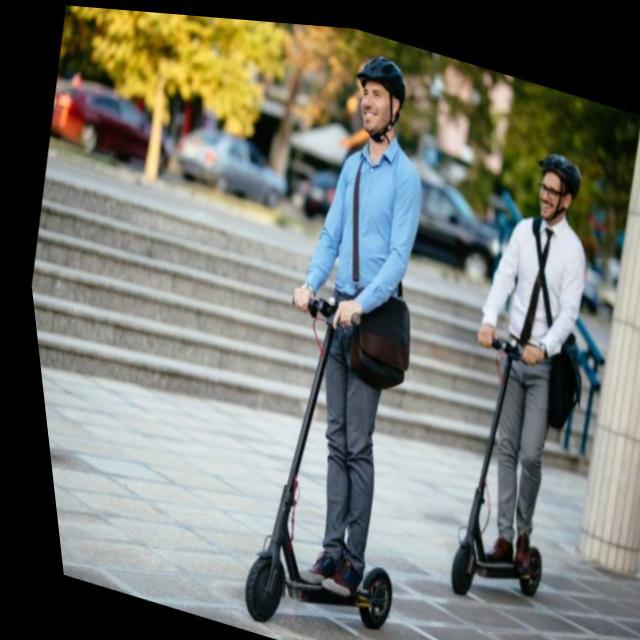Helmet: (340, 47, 412, 144), (525, 142, 587, 230)
